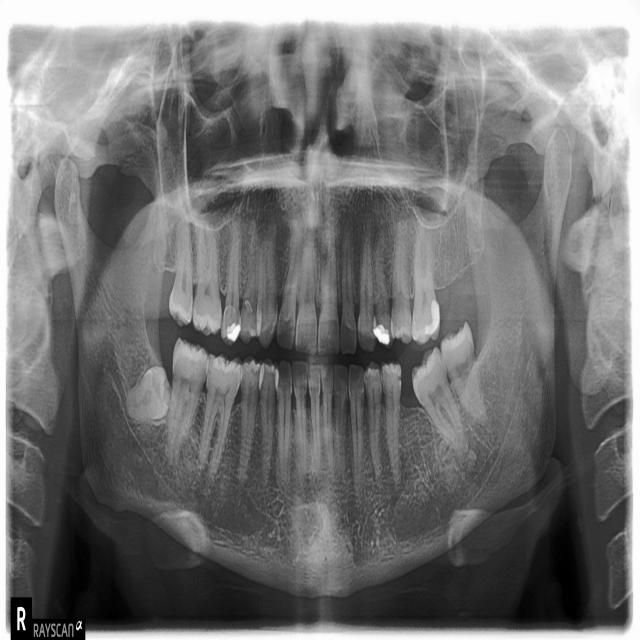mandibula: (52, 122, 573, 593)
